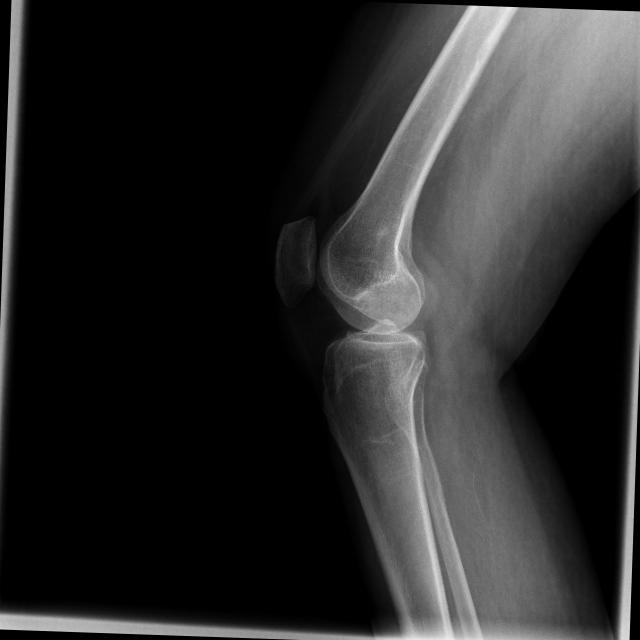Knee: (270, 214, 436, 400)
